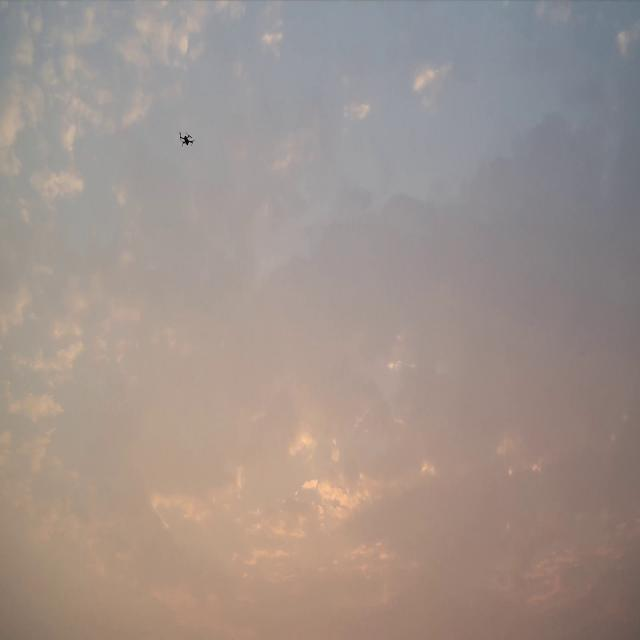UAV: (179, 131, 195, 146)
